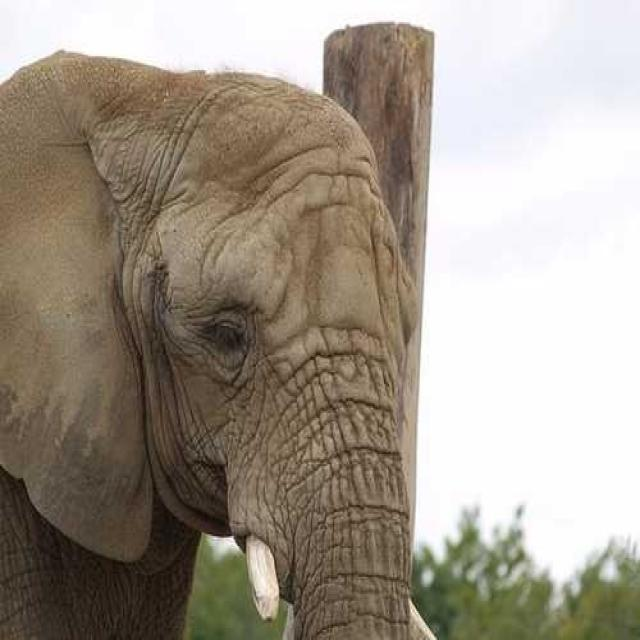Elephant: (0, 46, 449, 638)
